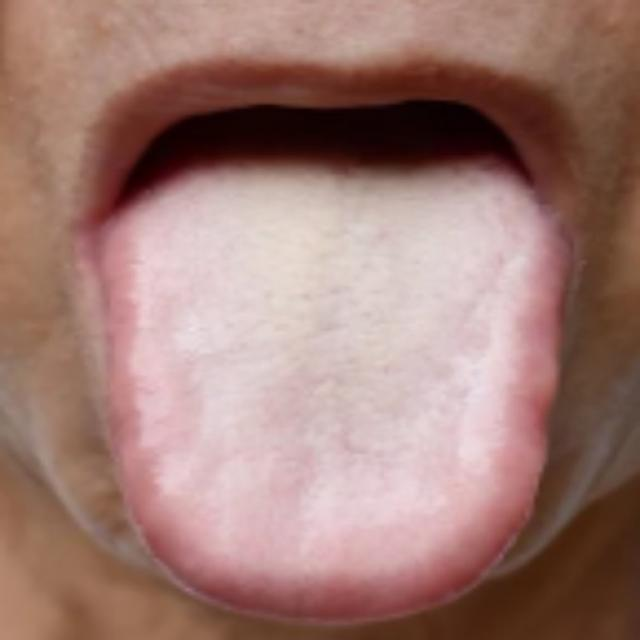processing_area: (89, 159, 555, 626)
